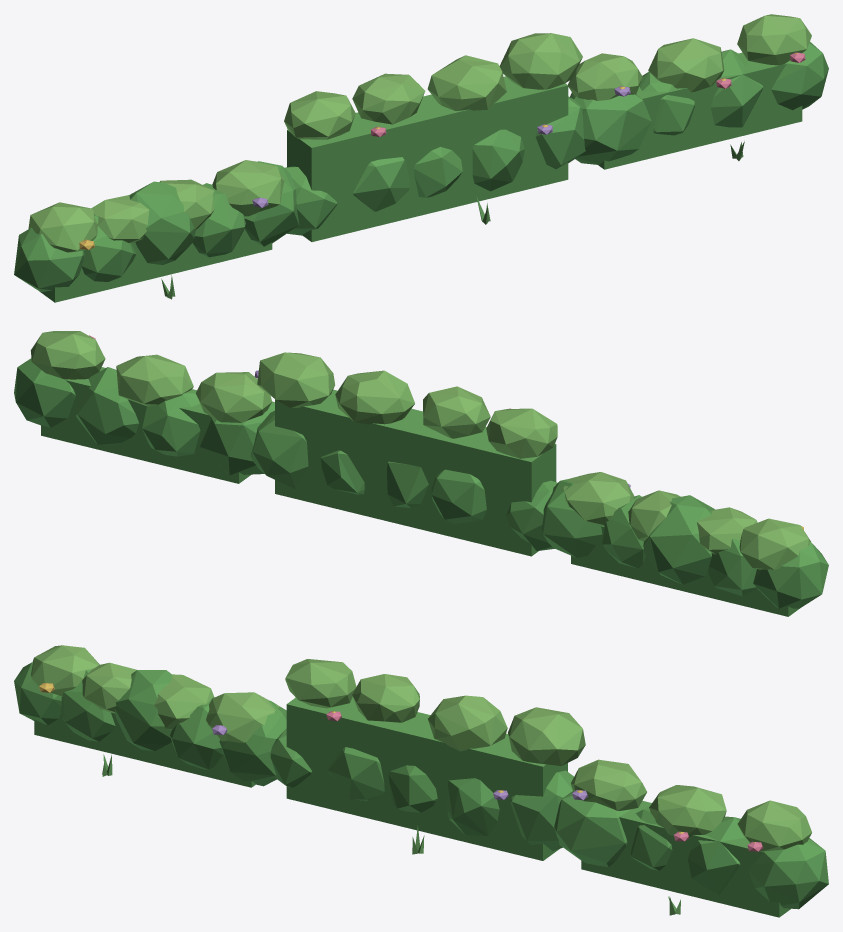
Rendered from ranch_border_hedge_xl.fbx.
3 renders of one model, top to bottom at view 1: azimuth 30°, elevation 25°; view 2: azimuth 150°, elevation 25°; view 3: azimuth 330°, elevation 25°, orthographic.
Visible parts, largest first — view 1: ranch_border_hedge_xl; view 2: ranch_border_hedge_xl; view 3: ranch_border_hedge_xl.
Part boxes in pixels (x1,y1,x2,y2): ranch_border_hedge_xl: (14,14,828,302); ranch_border_hedge_xl: (14,331,828,616); ranch_border_hedge_xl: (14,645,828,917).
Size of the model in its own units: 41.2 by 6.75 by 5.15.
